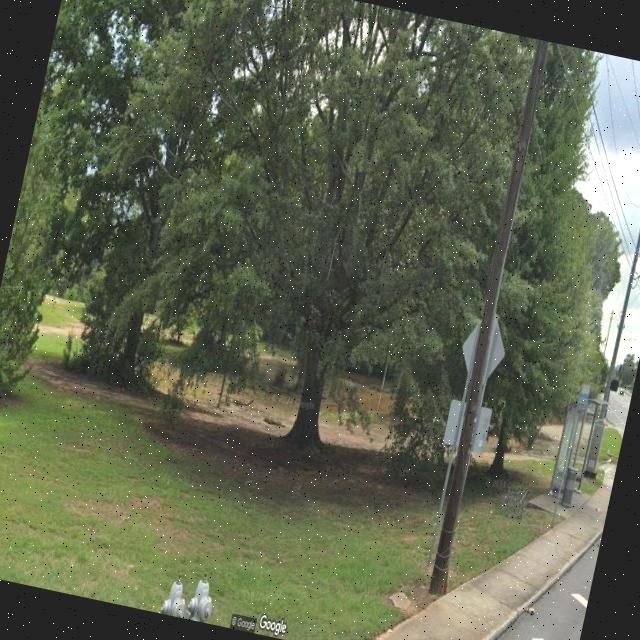shelter: (547, 394, 608, 506)
trash_can: (559, 467, 578, 508)
